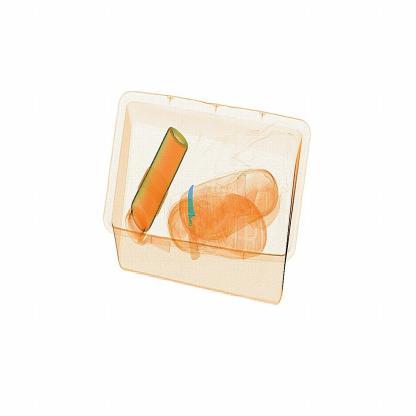wrench: (178, 183, 204, 256)
